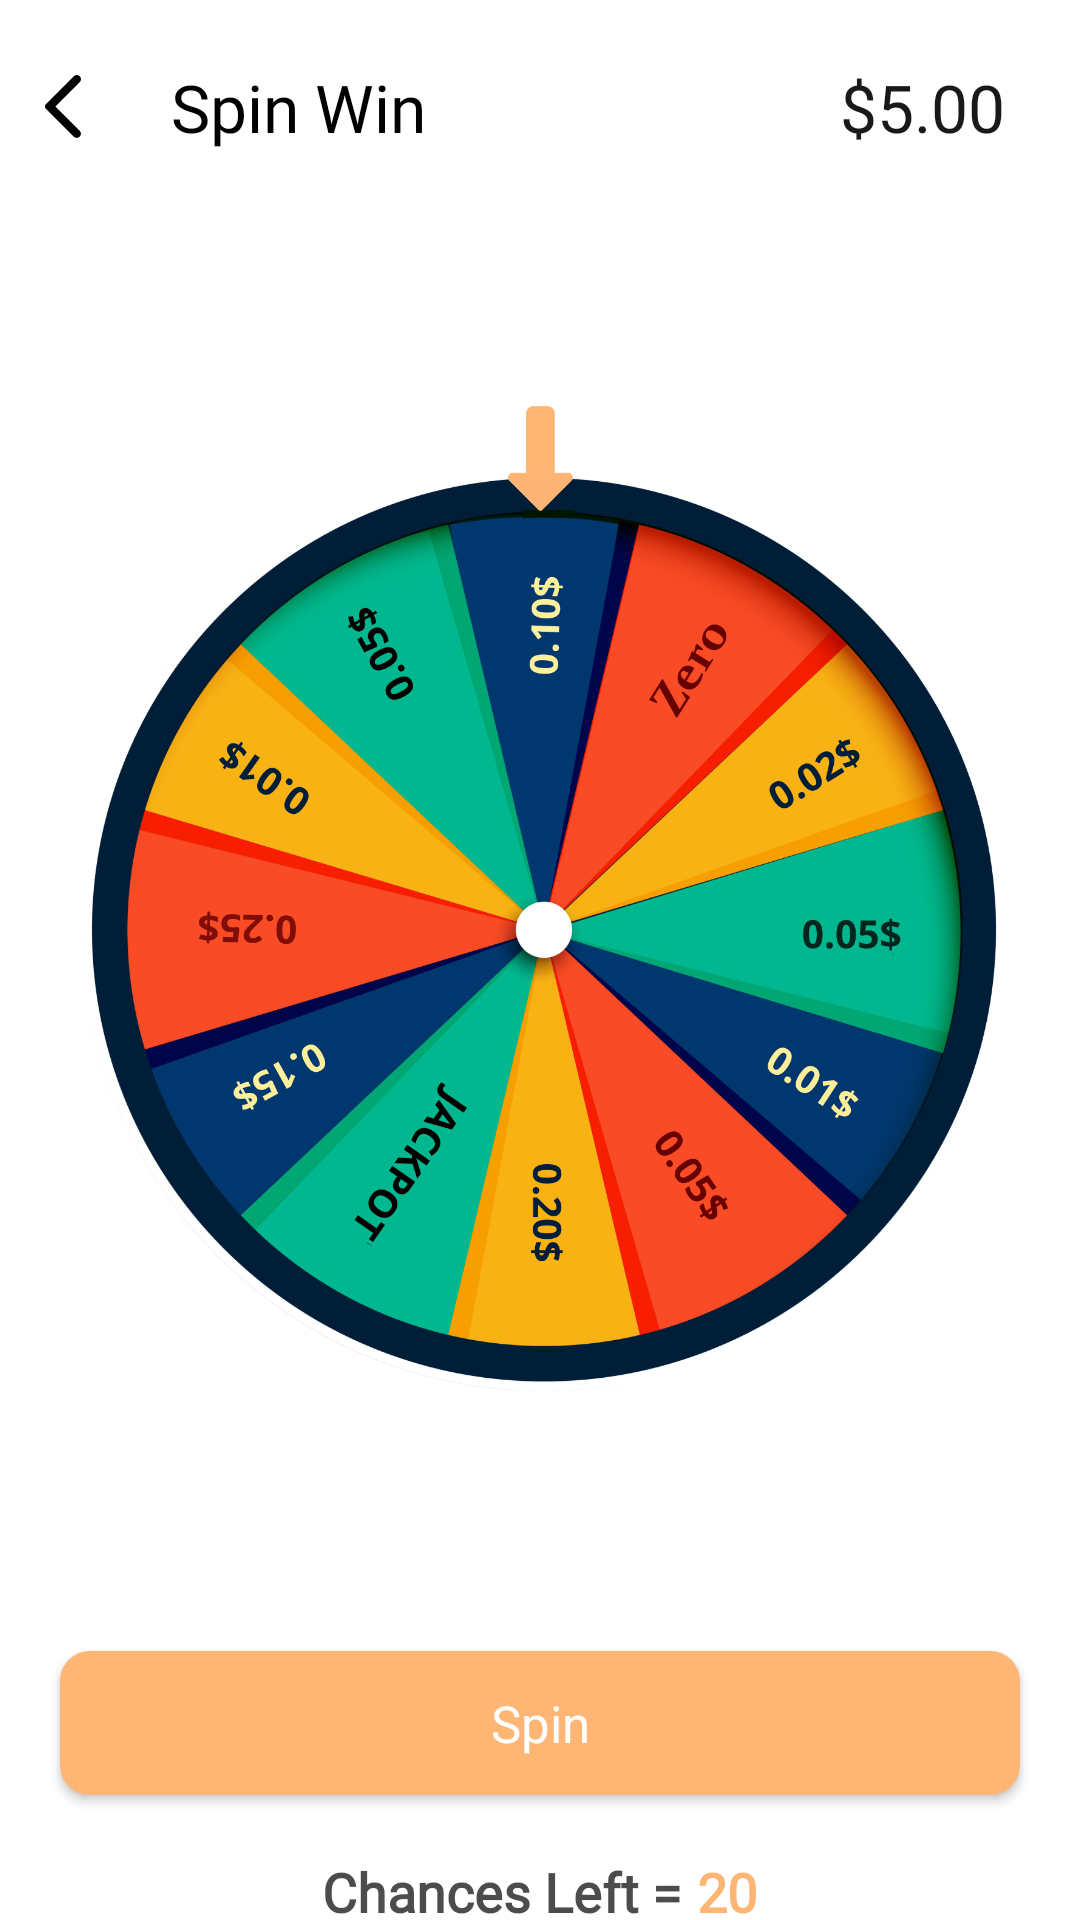

Named icons in this screenshot (1080w x 1920h) and their bounding boxes, (x1, y1, x2, y2):
Back: (45, 75, 81, 138)
